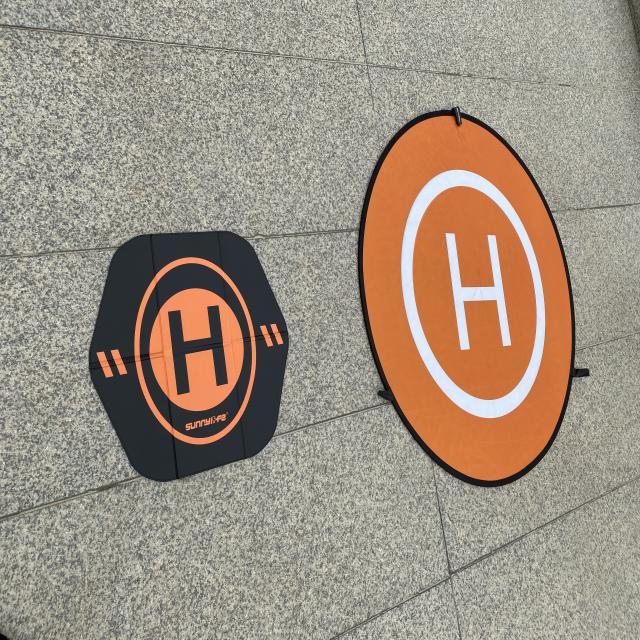helipad: (399, 168, 546, 422), (134, 256, 258, 445)
